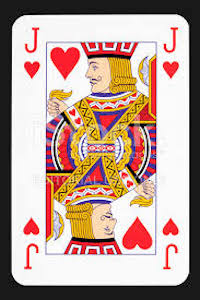JackOfHearts: (9, 13, 193, 289)
